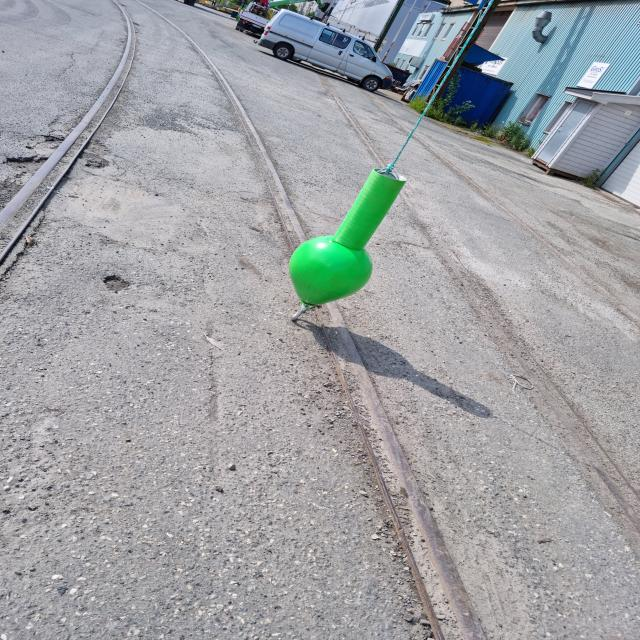green: (287, 170, 405, 307)
